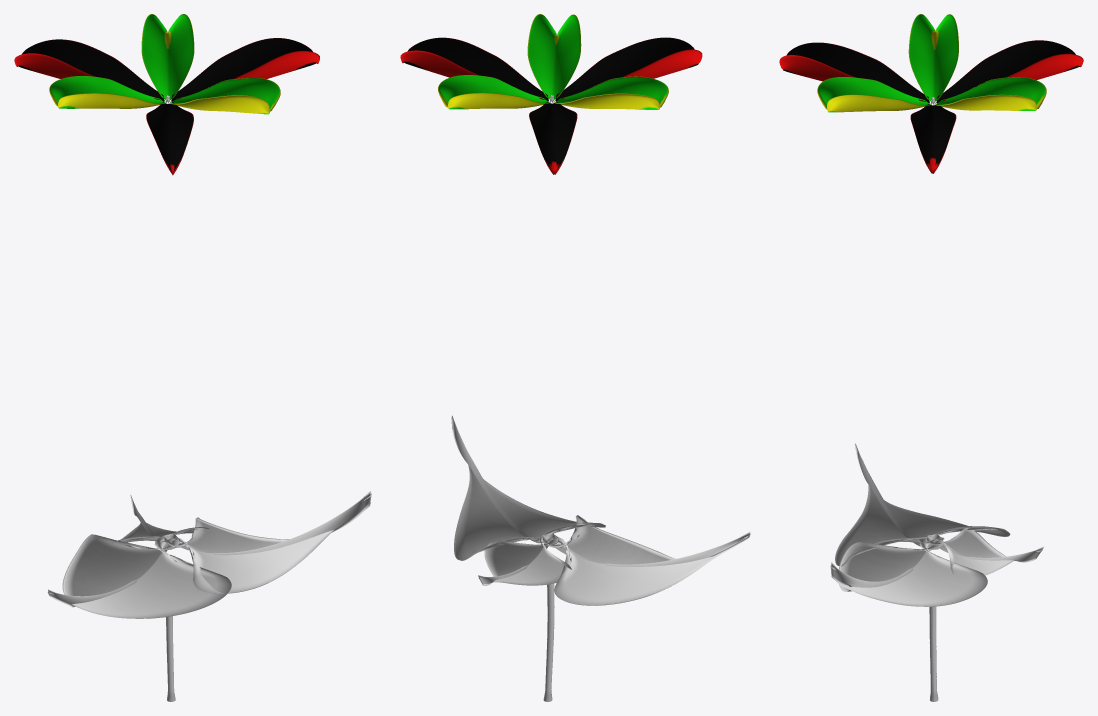
Rendered from tulip.glb.
3 renders of one model, left to right at view 1: azimuth 30°, elevation 25°; view 2: azimuth 150°, elevation 25°; view 3: azimuth 270°, elevation 25°, orthographic.
Visible parts, largest first — view 1: Leaf_0, Leaf_1, Tepal_0, Tepal_1, Tepal_3, Tepal_5, Tepal_4, Tepal_2, Leaf_2, Stem; view 2: Leaf_0, Leaf_1, Tepal_2, Tepal_0, Tepal_5, Leaf_2, Tepal_3, Tepal_4, Tepal_1, Stem; view 3: Leaf_1, Leaf_0, Tepal_1, Tepal_2, Tepal_4, Tepal_5, Tepal_3, Leaf_2, Tepal_0, Stem.
Part boxes in pixels (x1,y1,x2,y2): Leaf_0: (47, 533, 231, 618); Leaf_1: (163, 491, 371, 593); Tepal_0: (171, 38, 319, 101); Tepal_1: (14, 39, 164, 101); Tepal_3: (141, 14, 194, 99); Tepal_5: (170, 77, 280, 114); Tepal_4: (49, 76, 165, 108); Tepal_2: (146, 102, 193, 175); Leaf_2: (112, 495, 209, 543); Stem: (166, 616, 175, 701); Leaf_0: (542, 515, 750, 605); Leaf_1: (451, 415, 605, 560); Tepal_2: (555, 37, 702, 101); Tepal_0: (400, 37, 548, 101); Tepal_5: (527, 14, 581, 99); Leaf_2: (478, 533, 571, 585); Tepal_3: (438, 75, 549, 109); Tepal_4: (554, 76, 668, 109); Tepal_1: (529, 102, 577, 174); Stem: (543, 583, 554, 701); Leaf_1: (830, 533, 987, 606); Leaf_0: (835, 443, 1010, 566); Tepal_1: (936, 40, 1083, 102); Tepal_2: (779, 42, 929, 103); Tepal_4: (908, 14, 958, 101); Tepal_5: (817, 77, 930, 112); Tepal_3: (935, 77, 1046, 110); Leaf_2: (927, 528, 1043, 575); Tepal_0: (910, 104, 956, 173); Stem: (929, 606, 938, 701).
Bounding box in the file's own units: 1.52 × 2.98 × 1.3.
